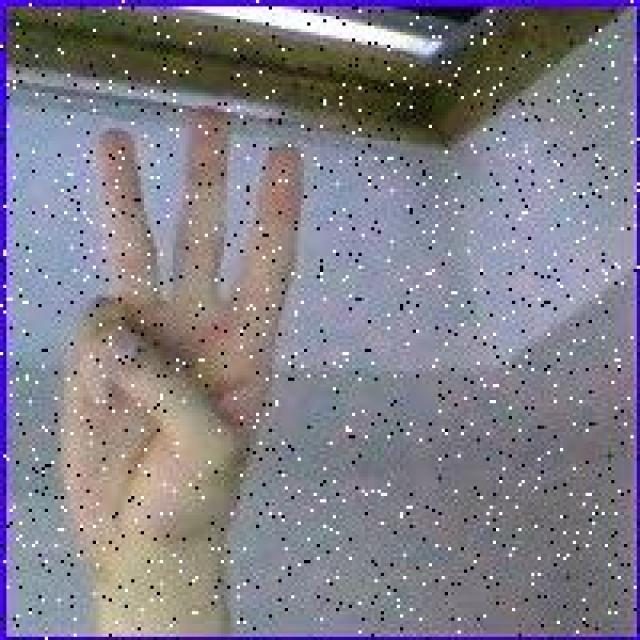W: (62, 98, 309, 562)
